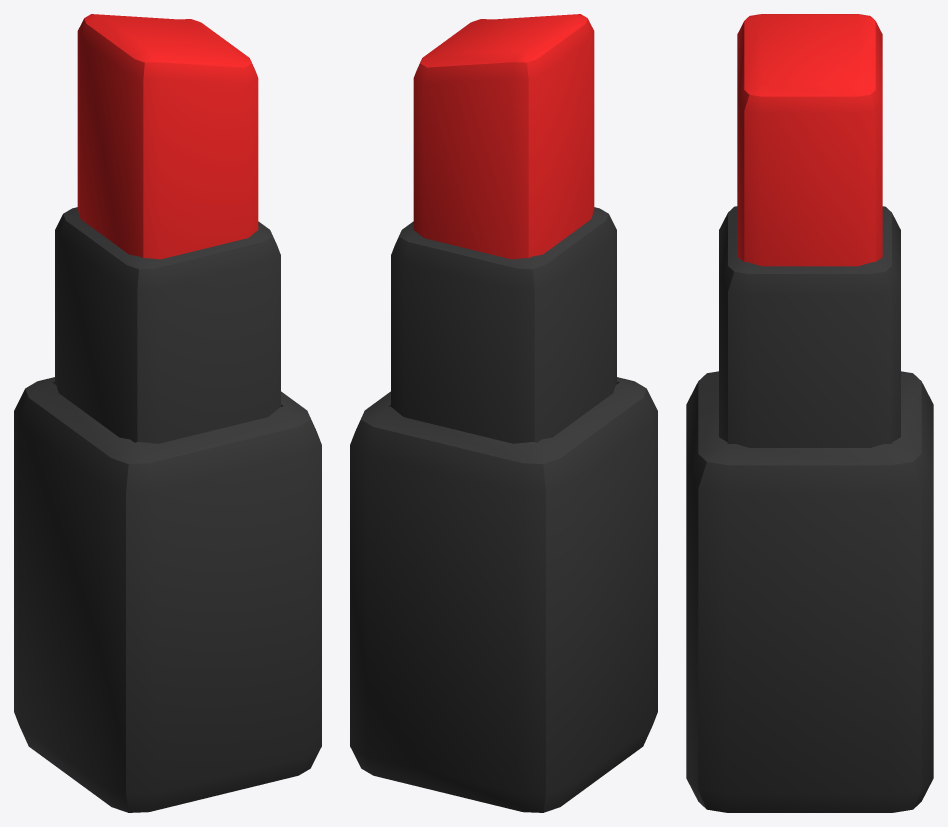
Rendered from Lipstick 01.fbx.
3 renders of one model, left to right at view 1: azimuth 30°, elevation 25°; view 2: azimuth 150°, elevation 25°; view 3: azimuth 270°, elevation 25°, orthographic.
Parts seen in each view (by area): view 1: Lipstick; view 2: Lipstick; view 3: Lipstick.
Part boxes in pixels (left/top/right/bottom): Lipstick: left=14, top=14, right=321, bottom=812; Lipstick: left=350, top=14, right=657, bottom=812; Lipstick: left=686, top=14, right=933, bottom=812.
Bounding box in the file's own units: 8 × 26 × 8.
